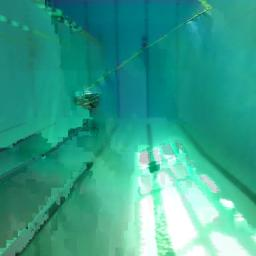front: (72, 88, 104, 112)
